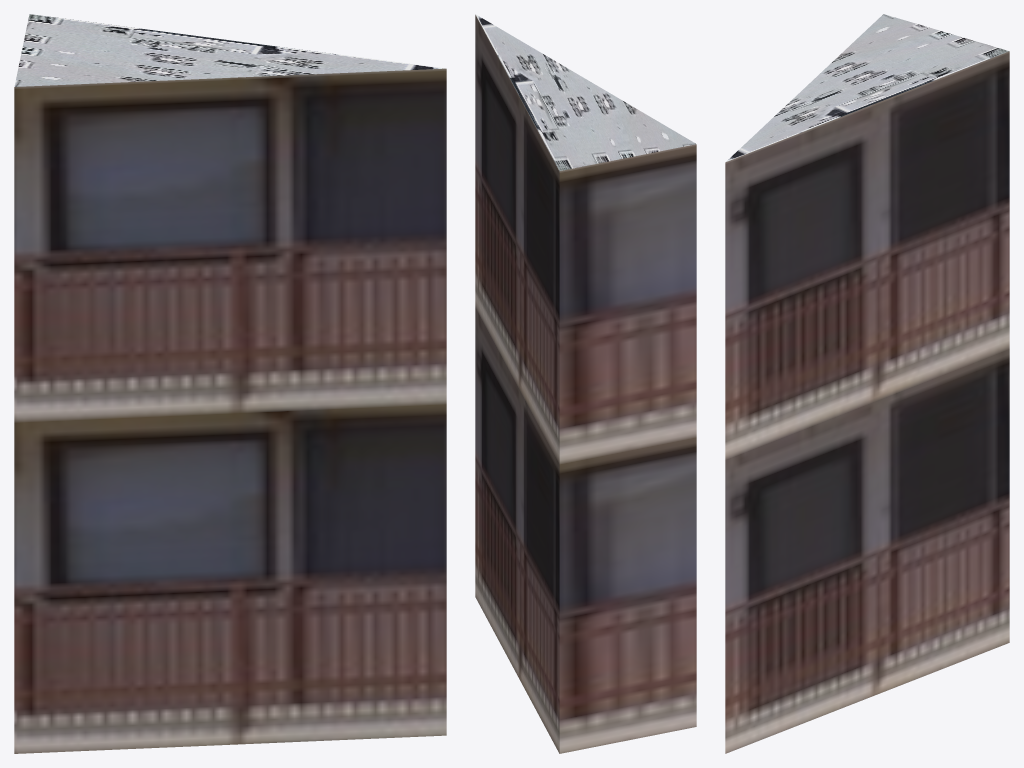
File: ResTex__2316.fbx
The picture shows the model from 3 angles, left to right: view 1: azimuth 30°, elevation 25°; view 2: azimuth 150°, elevation 25°; view 3: azimuth 270°, elevation 25°; orthographic projection. The views are drawn at different scales.
Parts seen in each view (by area): view 1: CityEngineMaterial_6_m, CityEngineMaterial_8_m; view 2: CityEngineMaterial_6_m, CityEngineMaterial_8_m; view 3: CityEngineMaterial_6_m, CityEngineMaterial_8_m.
Boxes of the visible parts, left/top/right/bottom form: CityEngineMaterial_6_m: left=14, top=68, right=446, bottom=753; CityEngineMaterial_8_m: left=14, top=14, right=444, bottom=86; CityEngineMaterial_6_m: left=475, top=15, right=696, bottom=753; CityEngineMaterial_8_m: left=475, top=14, right=696, bottom=170; CityEngineMaterial_6_m: left=725, top=51, right=1009, bottom=753; CityEngineMaterial_8_m: left=726, top=14, right=1008, bottom=161.
Bounding box in the file's own units: 3.23 × 6 × 2.61.
Materials: 2 (2 with a texture image).
